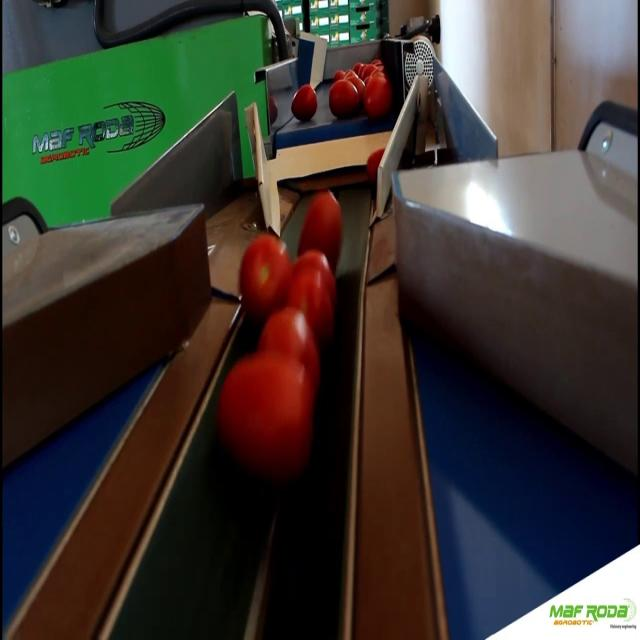Tomato: (212, 351, 323, 487), (237, 230, 290, 316), (300, 178, 346, 269), (289, 249, 336, 334), (258, 310, 320, 364), (327, 84, 361, 124), (364, 76, 394, 120), (290, 83, 319, 124), (362, 144, 390, 184)
